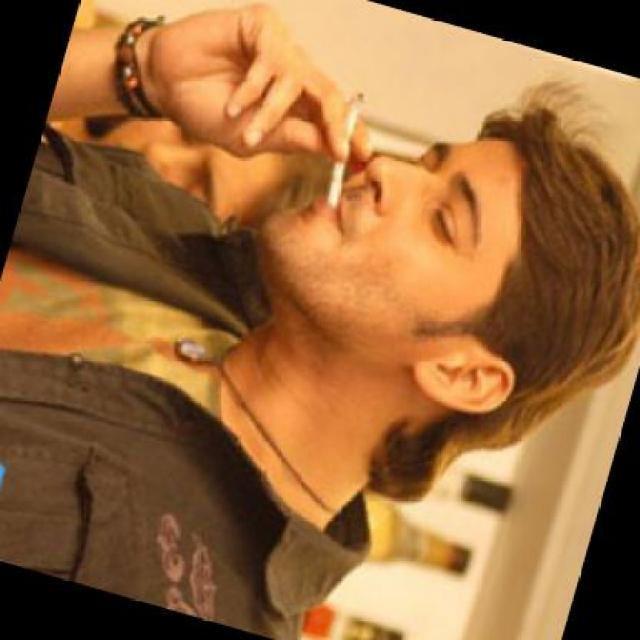cigarette: (316, 79, 370, 212)
